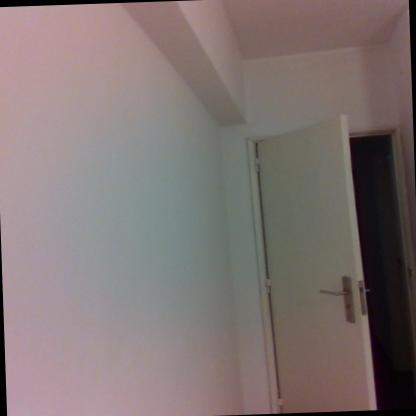semi: (235, 111, 416, 409)
